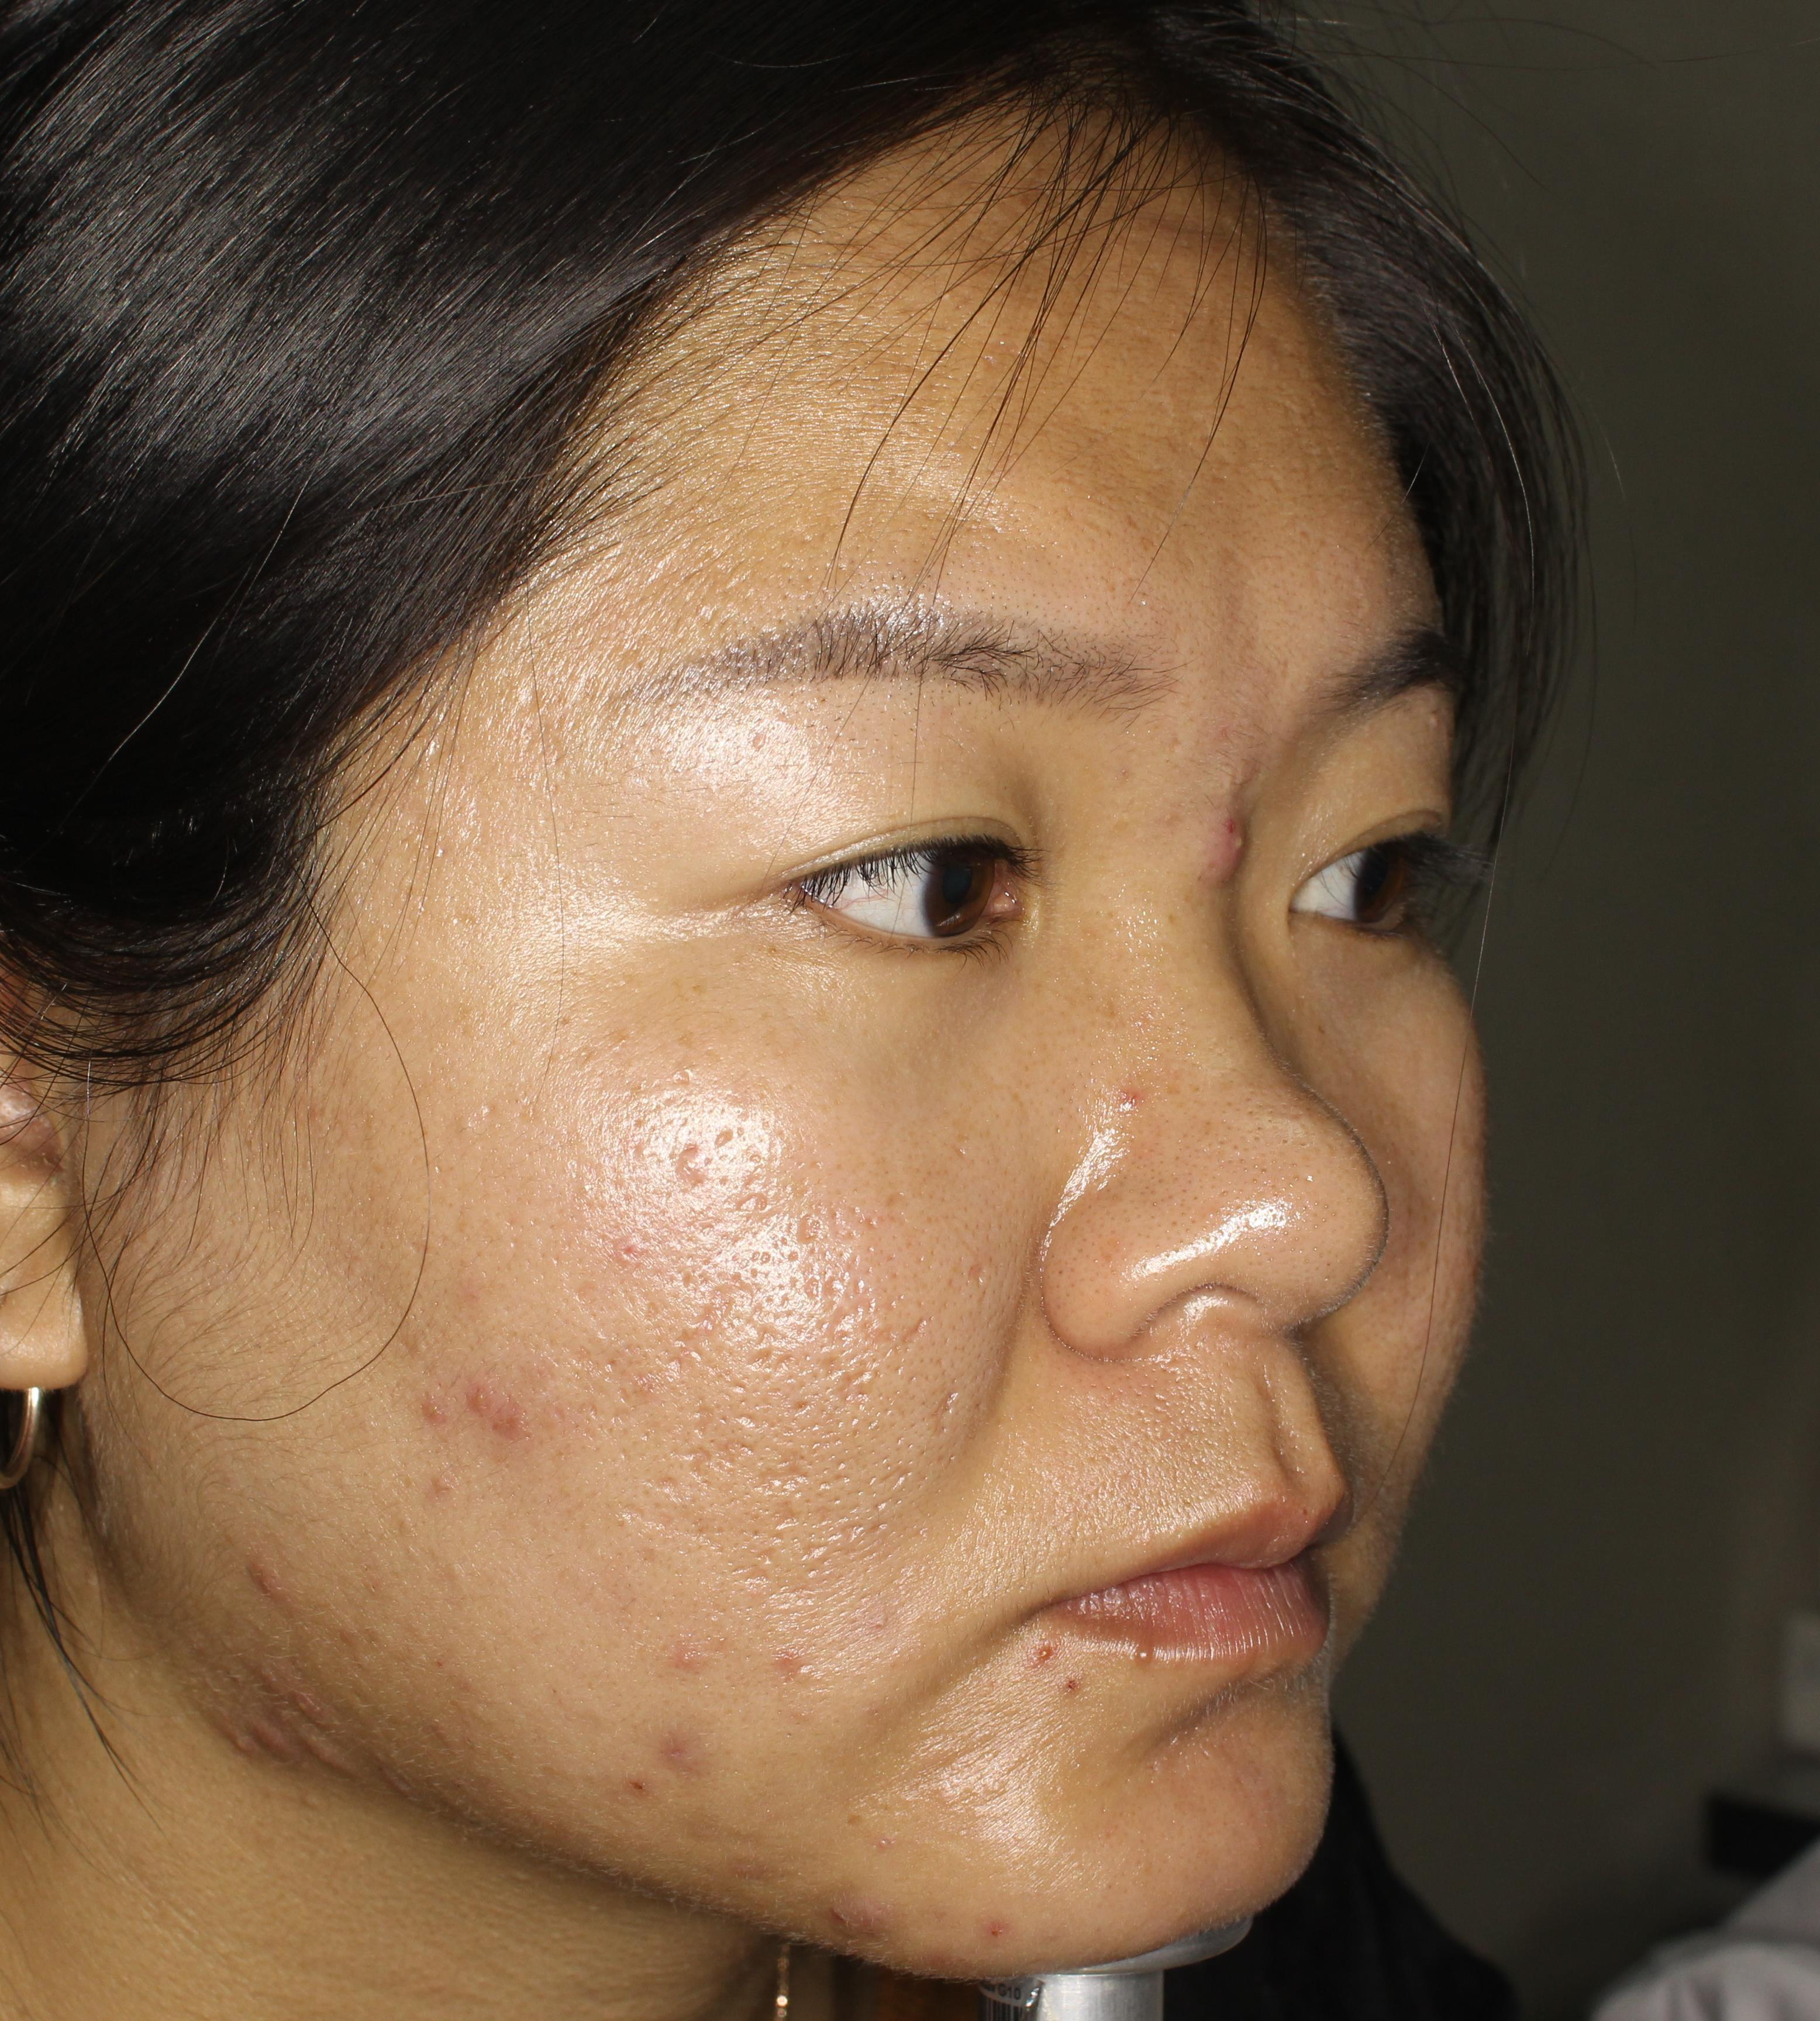fore: (808, 1866, 910, 1961), (1189, 778, 1260, 890), (655, 1696, 727, 1786), (234, 1545, 306, 1621), (727, 1831, 780, 1921), (476, 1384, 534, 1459), (409, 1370, 453, 1459)
